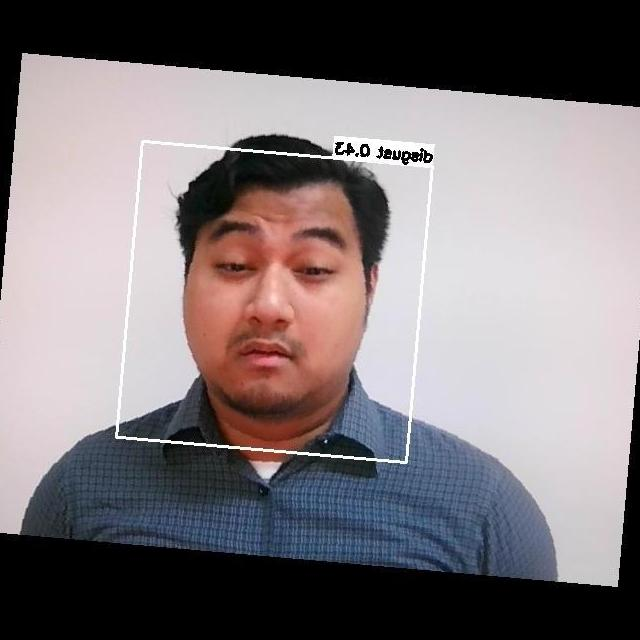Fear: (180, 202, 356, 407)
